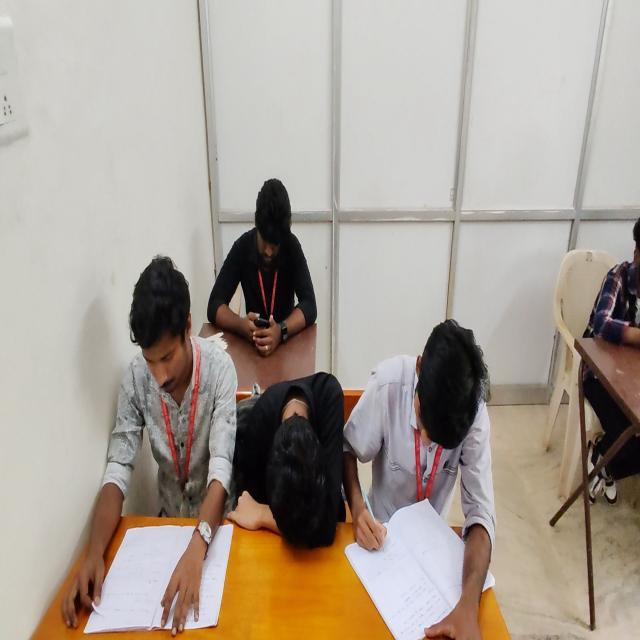reading: (62, 254, 238, 633), (351, 321, 490, 640)
sleeping: (228, 368, 340, 550)
using_mobile: (206, 177, 318, 355), (579, 207, 639, 505)
